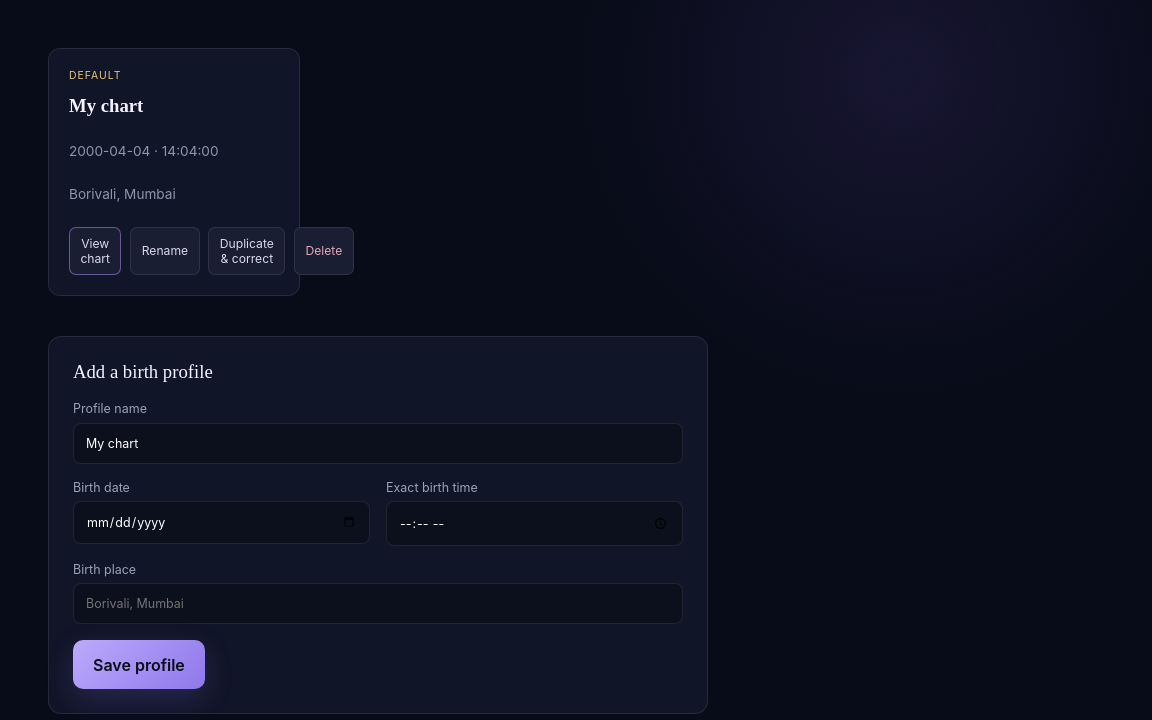
birth profile correction workflow › opens a prefilled in-app correction form
The width and height of the screenshot is (1152, 720).
Click the button "Duplicate & correct" at (247, 251), box [208,227,285,274]
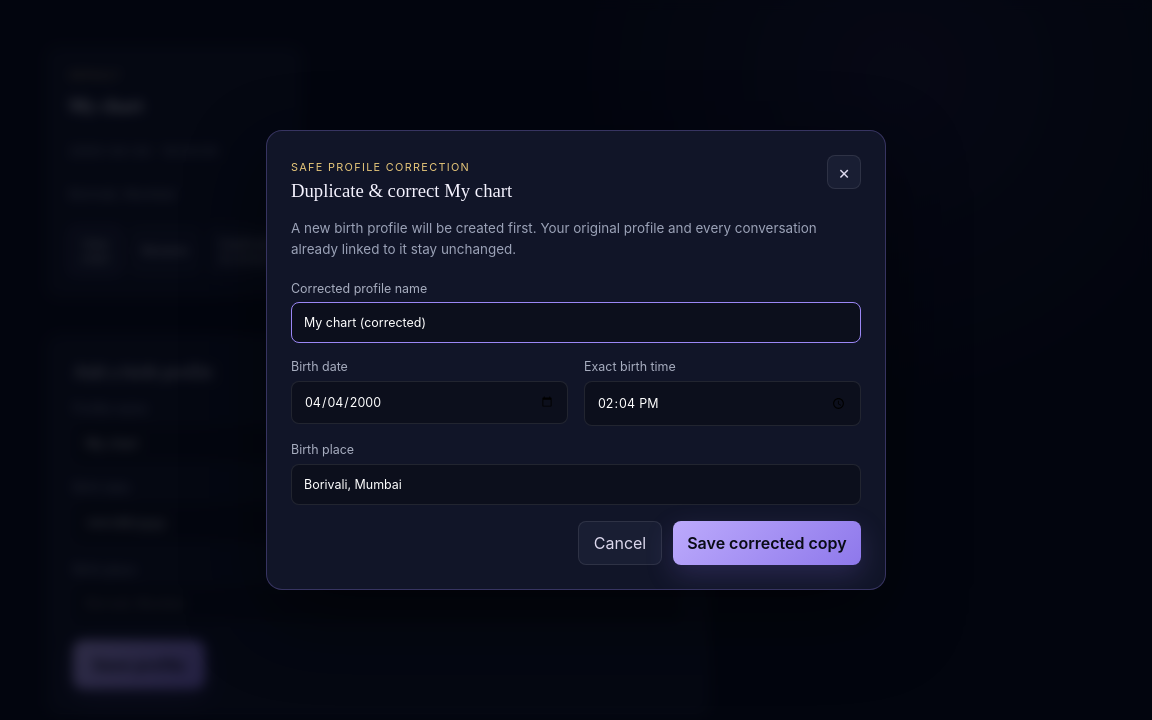
Now the dialog "Duplicate & correct My chart" is shown, box [266,130,886,590]
Now the field labelled "Corrected profile name" holds "My chart (corrected)", box [291,302,861,343]
Now the date field named "Corrected birth date" holds "2000-04-04", box [291,381,568,424]
